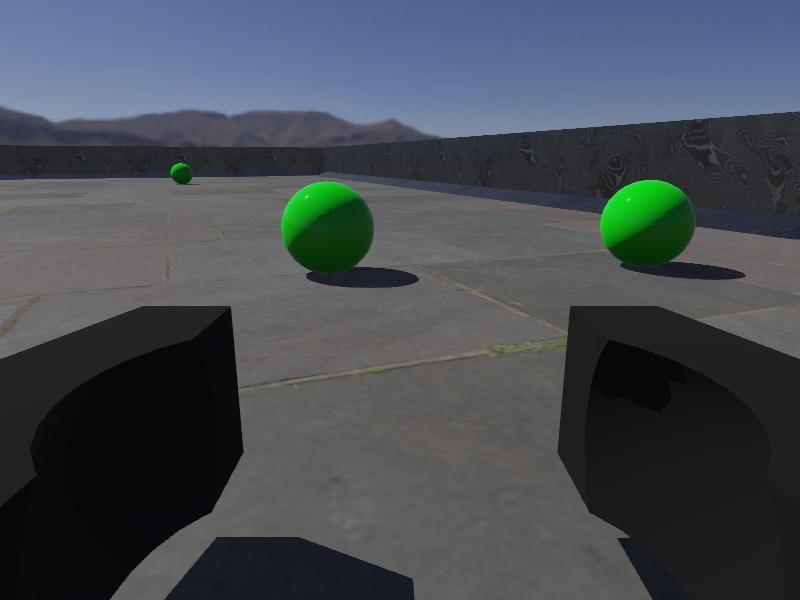green ball: (279, 180, 375, 275), (599, 179, 697, 268), (169, 162, 194, 185)
